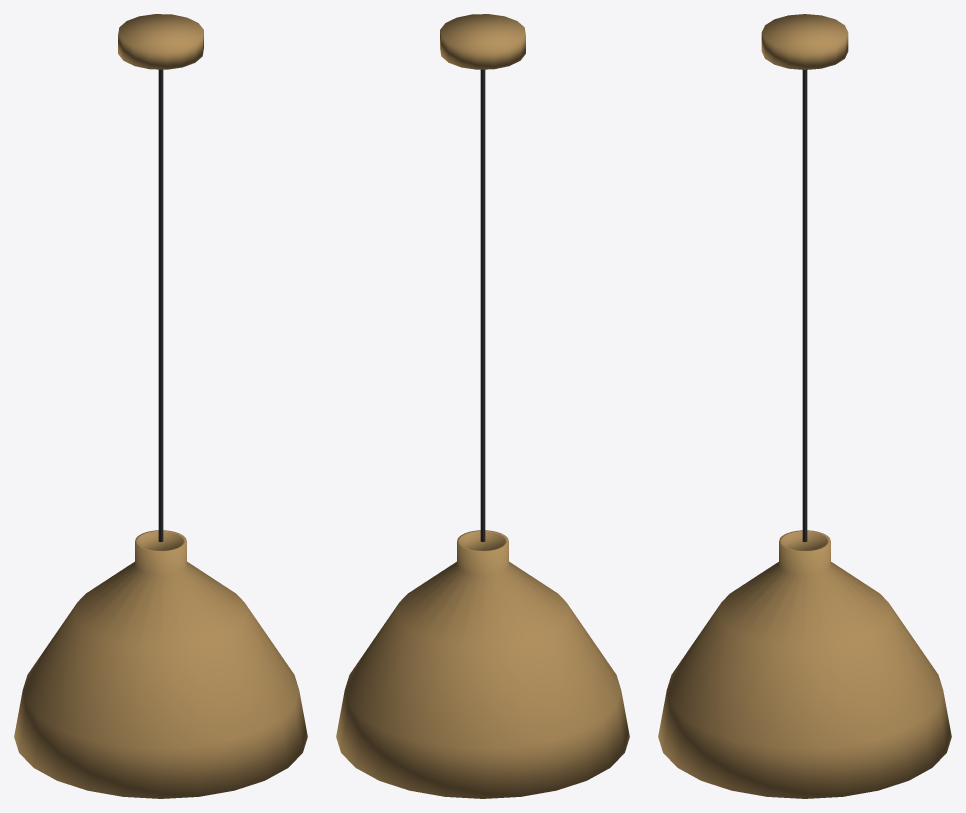
File: i_pend_1.glb
3 renders of one model, left to right at view 1: azimuth 30°, elevation 25°; view 2: azimuth 150°, elevation 25°; view 3: azimuth 270°, elevation 25°, orthographic.
Parts seen in each view (by area): view 1: o.001, o.003, o; view 2: o.001, o.003, o; view 3: o.001, o.003, o.
Part boxes in pixels (x1,y1,x2,y2): o.001: [14, 530, 307, 798]; o.003: [118, 14, 203, 69]; o: [158, 69, 163, 541]; o.001: [336, 530, 629, 798]; o.003: [440, 14, 525, 69]; o: [480, 69, 485, 541]; o.001: [658, 530, 951, 798]; o.003: [761, 14, 848, 69]; o: [802, 70, 807, 541].
Bounding box in the file's own units: 0.34 × 0.9007 × 0.34.
